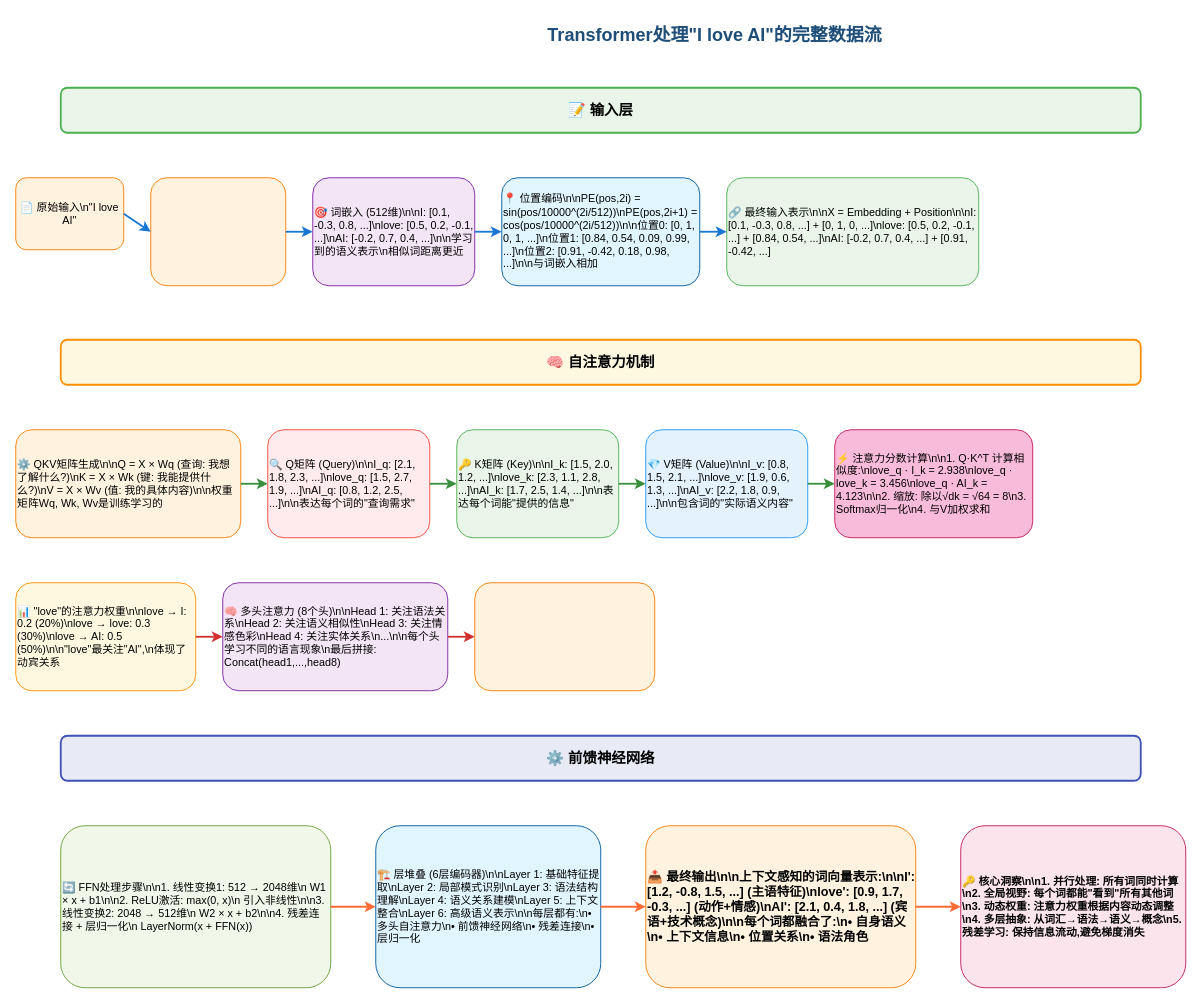
This 1202x1004 diagram has some shape labels left out. The shapes that lost their labels are listed below. From the top down, each one's centre as x and y in pixels, then its label:
(218,231): 🔤 分词\n["I", "love", "AI"]\n\n词汇表映射:\nI → 1234\nlove → 5678\nAI → 9012
(564,636): 🔄 残差连接\n\noutput = LayerNorm(X + MultiHead(X))\n\n• 解决梯度消失\n• 保留原始信息\n• 加速训练收敛
